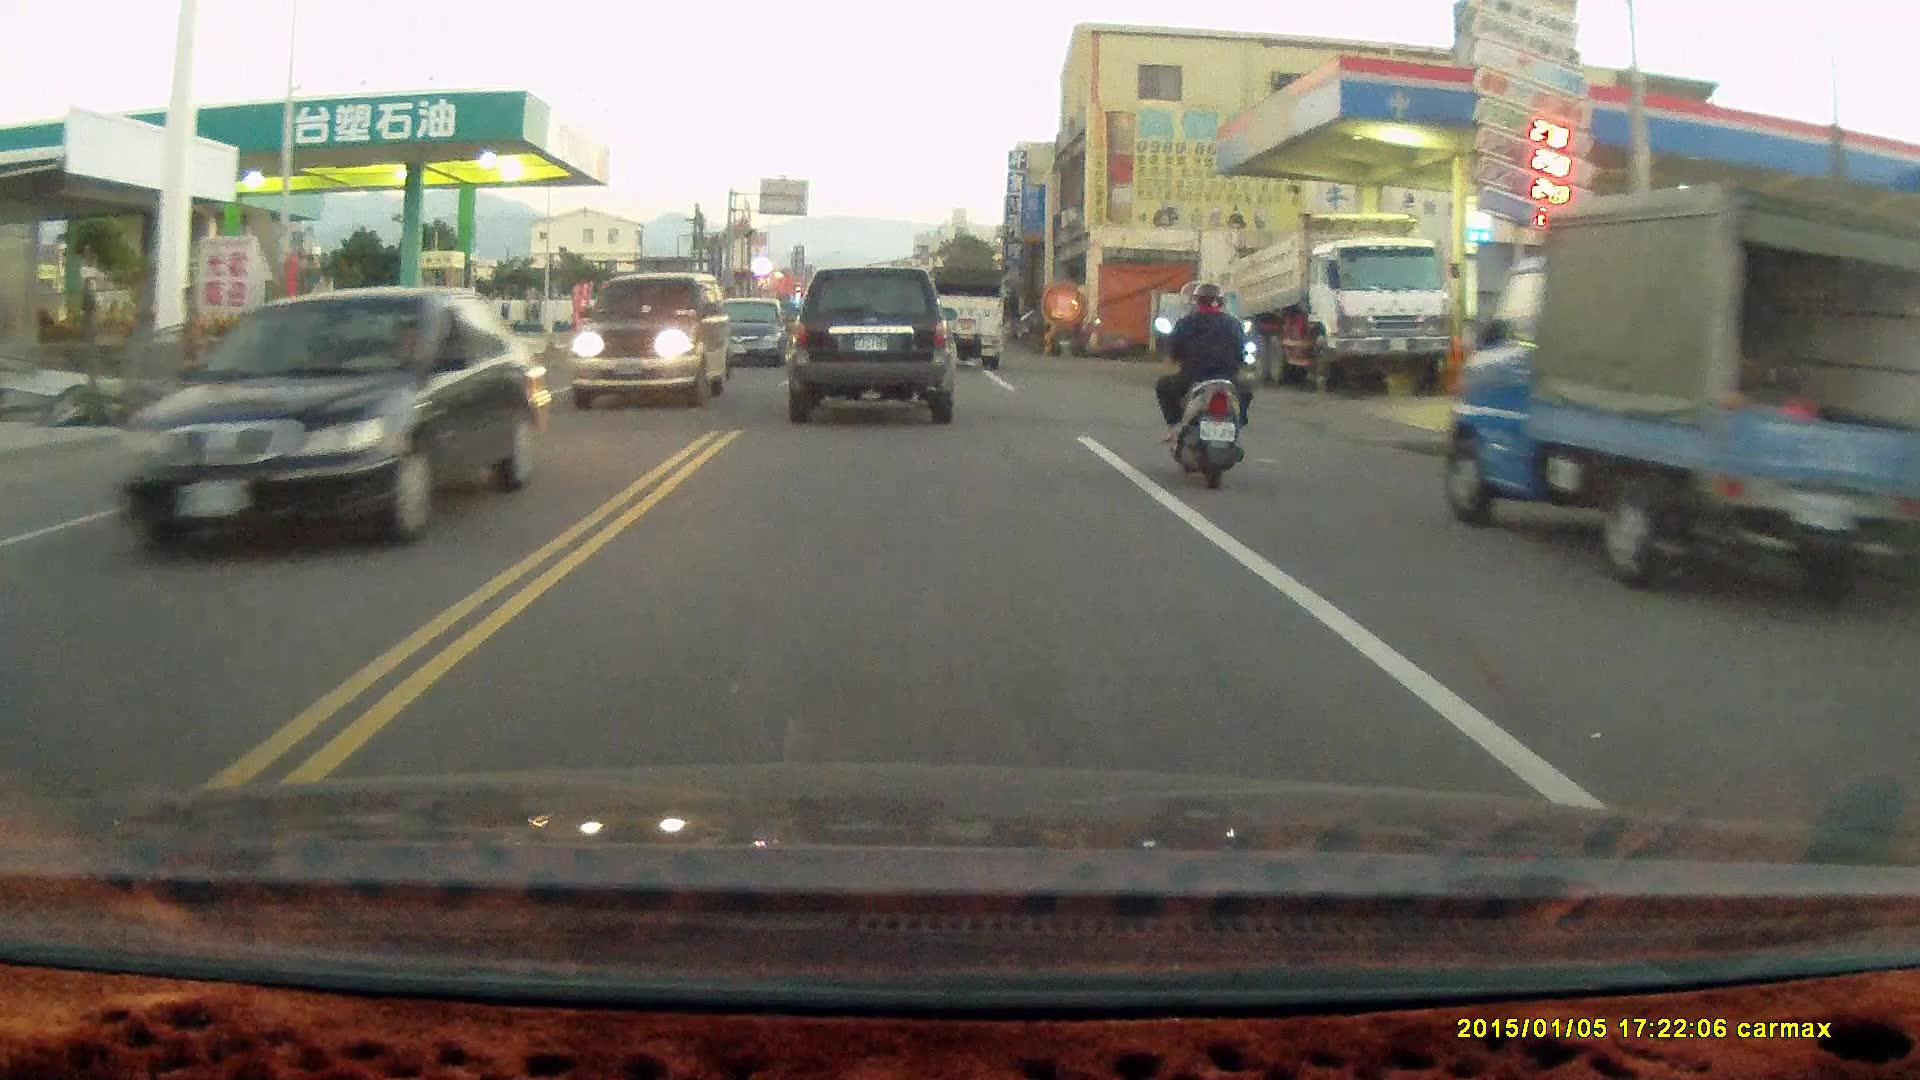rider: (1151, 280, 1257, 491)
vehicle: (1446, 181, 1920, 599), (116, 286, 539, 550), (1217, 197, 1450, 384), (789, 261, 955, 417), (573, 268, 732, 408), (916, 260, 1008, 371), (708, 298, 800, 368)
